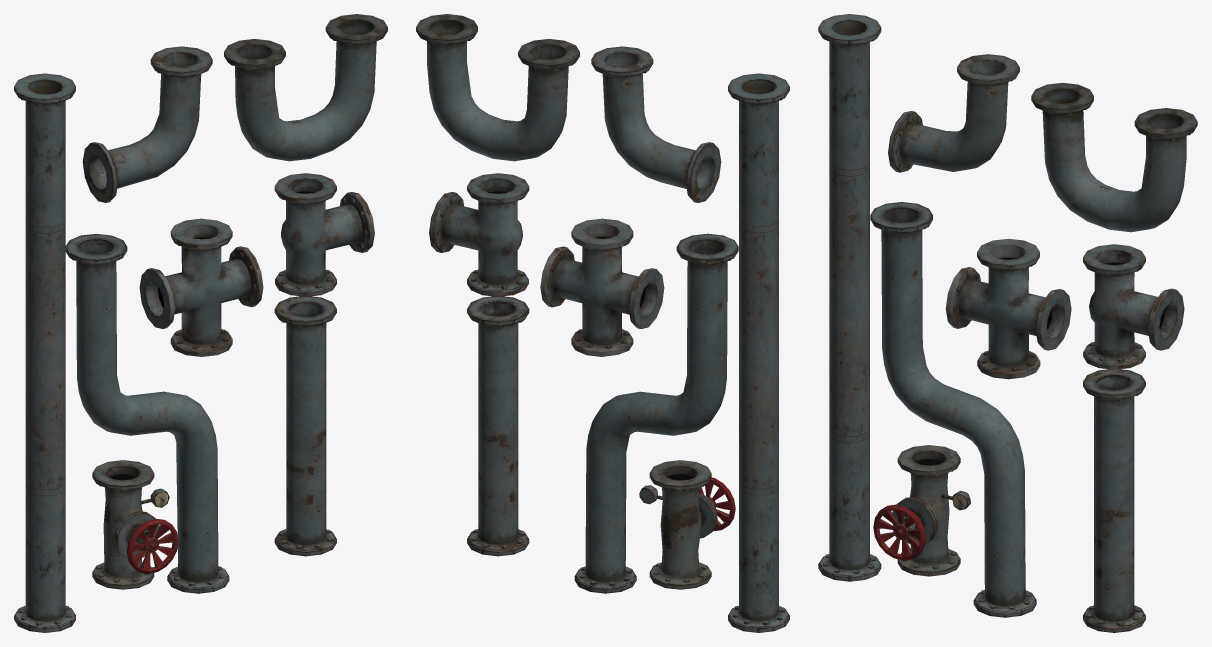
File: modular_industrial_pipes_01.glb
3 views of the same model, side by side, from view 1: azimuth 30°, elevation 25°; view 2: azimuth 150°, elevation 25°; view 3: azimuth 330°, elevation 25° (orthographic).
Parts seen in each view (by area): view 1: modular_industrial_pipes_01_pipe01, modular_industrial_pipes_01_pipe05; view 2: modular_industrial_pipes_01_pipe01, modular_industrial_pipes_01_pipe05; view 3: modular_industrial_pipes_01_pipe01, modular_industrial_pipes_01_pipe05.
Boxes of the visible parts, box(x1,y1,x2,y2) form: modular_industrial_pipes_01_pipe01: box(14, 46, 336, 632); modular_industrial_pipes_01_pipe05: box(92, 14, 387, 589); modular_industrial_pipes_01_pipe01: box(467, 46, 789, 632); modular_industrial_pipes_01_pipe05: box(416, 14, 735, 589); modular_industrial_pipes_01_pipe01: box(818, 14, 1145, 632); modular_industrial_pipes_01_pipe05: box(873, 82, 1197, 576).
Bounding box in the file's own units: 1.4 × 1.95 × 0.3072.
Materials: 2 (2 with a texture image).
